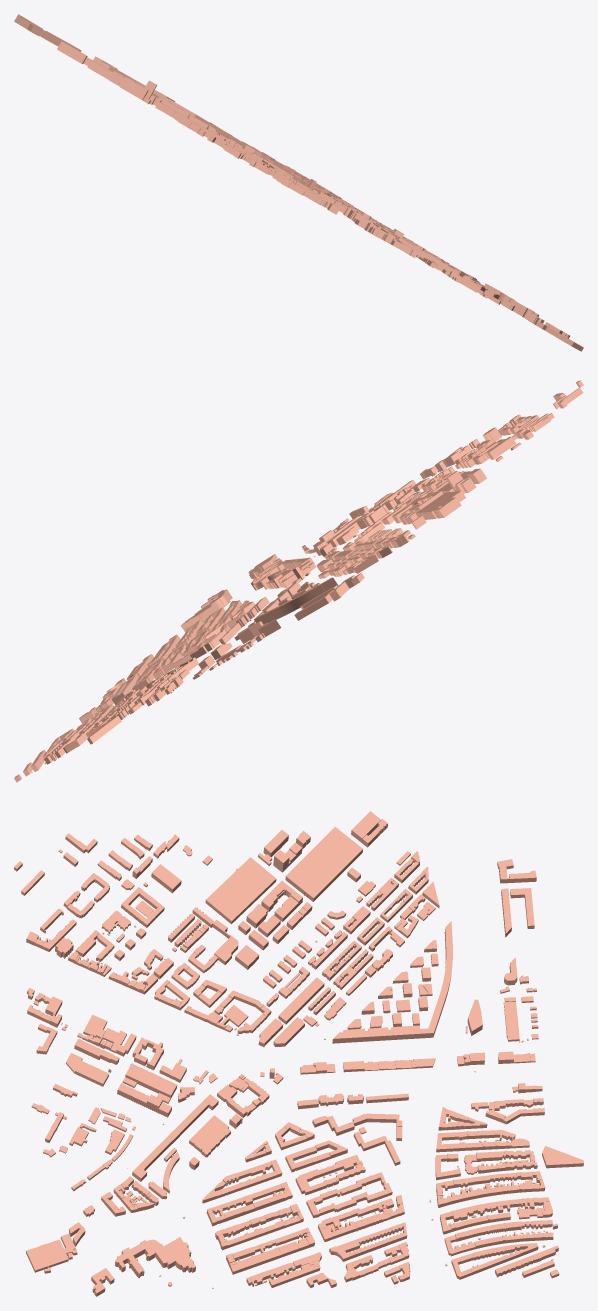
3 renders of one model, top to bottom at view 1: azimuth 30°, elevation 25°; view 2: azimuth 150°, elevation 25°; view 3: azimuth 270°, elevation 25°, orthographic. The views are drawn at different scales.
Size of the model in its own units: 1059 by 782 by 1344.
